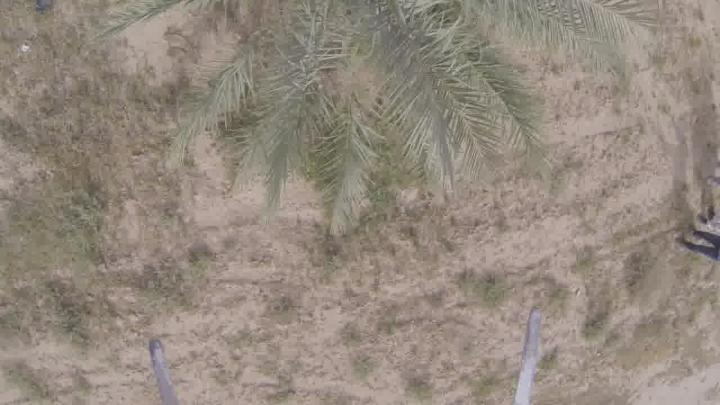Date-Palm-Crown: (253, 0, 542, 110)
